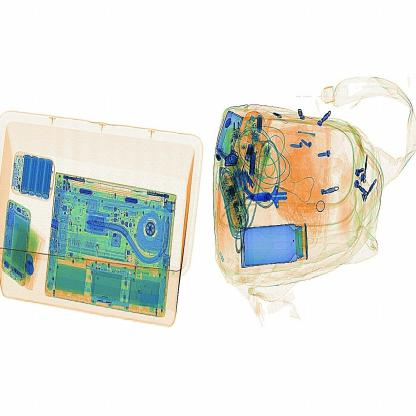gun: (235, 174, 312, 218)
